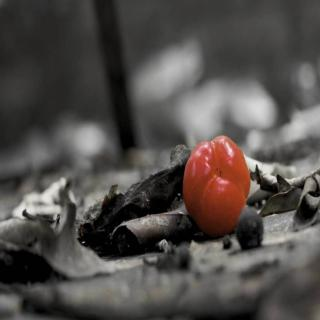tomato: (180, 136, 254, 242)
